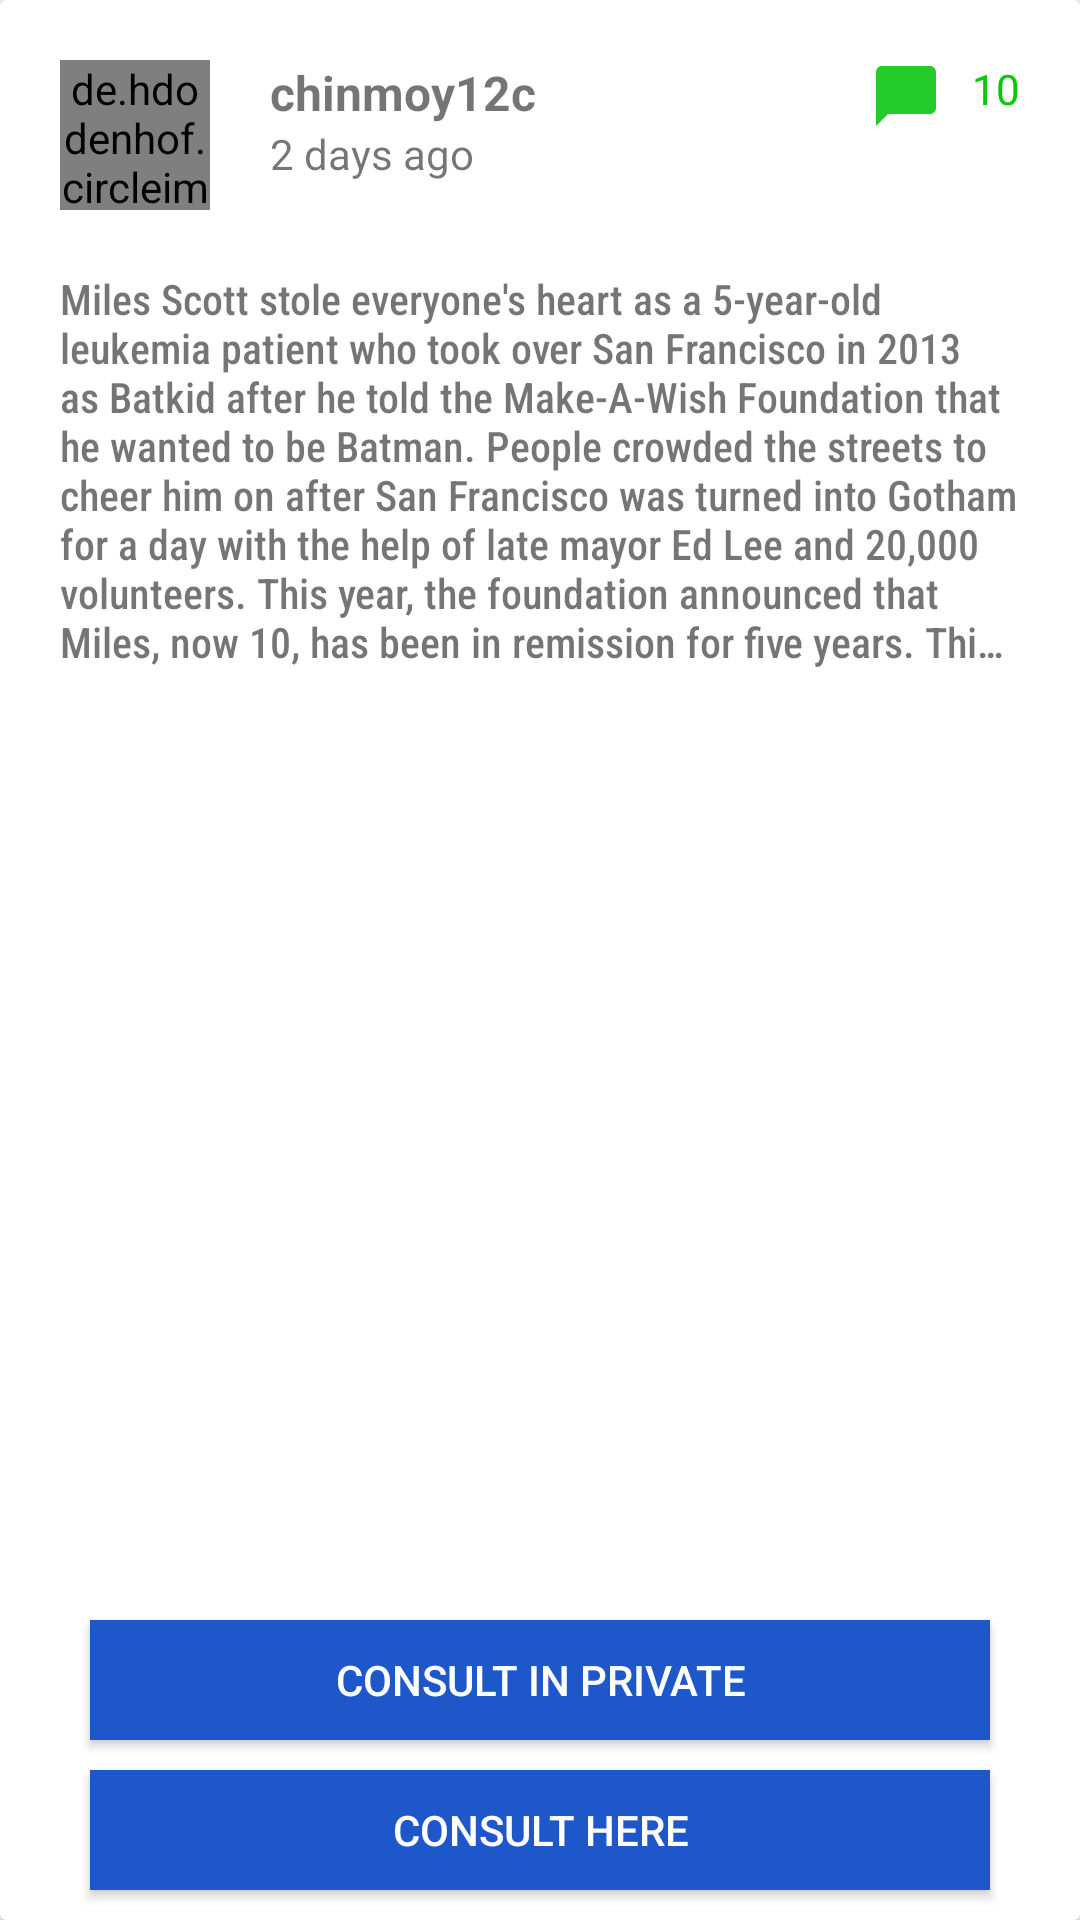

Icons on this 1080px×1920px Android screen, each with the point to tap as [x,y]:
chat bubble: [906,96]
